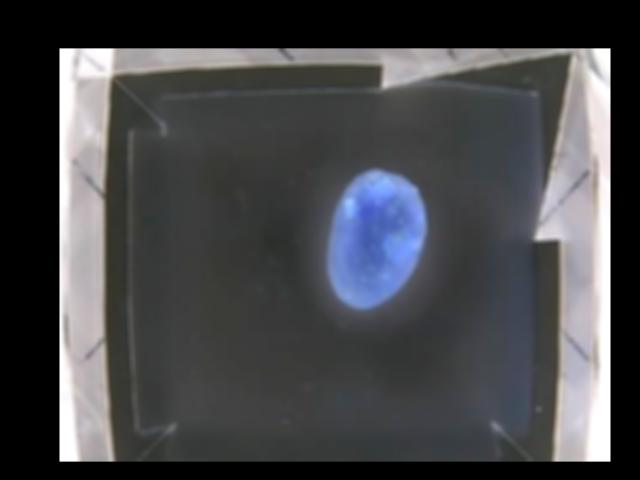Potato: (329, 169, 427, 310)
